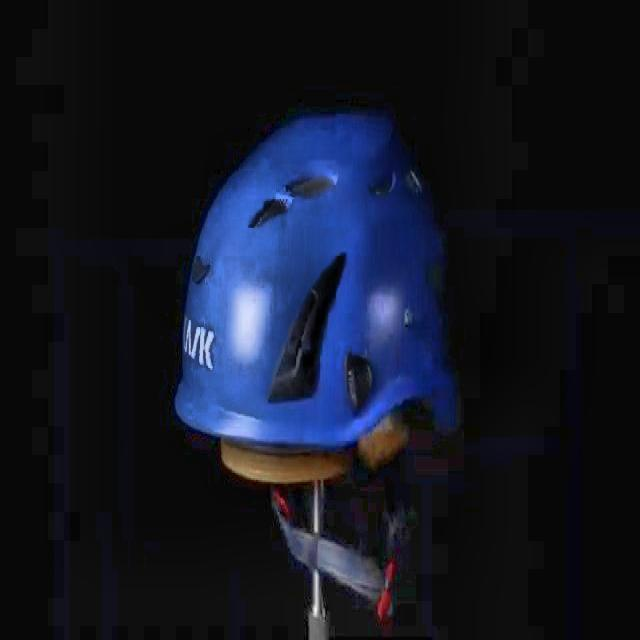helmet: (174, 107, 465, 451)
